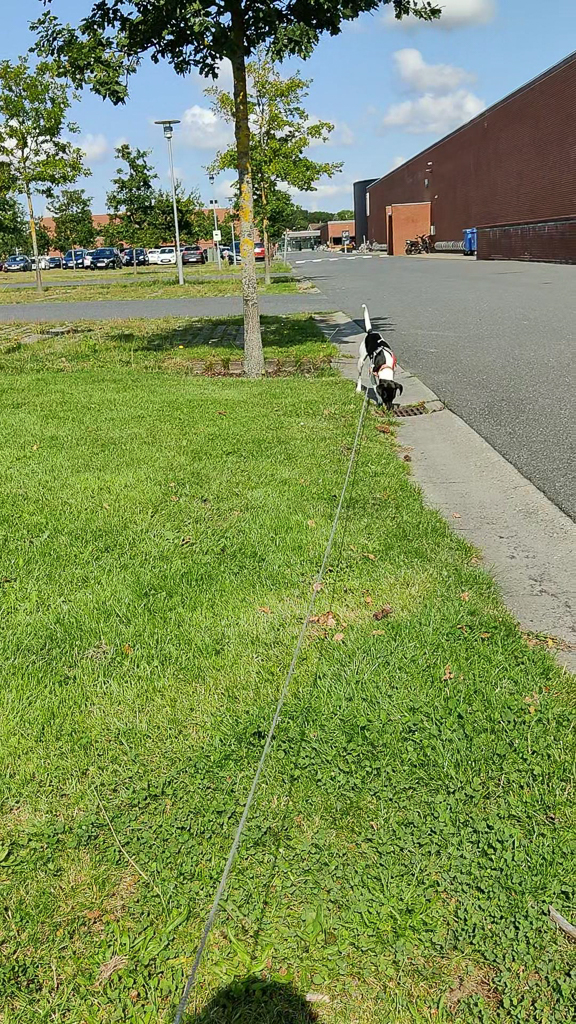Dog: (342, 299, 415, 417)
